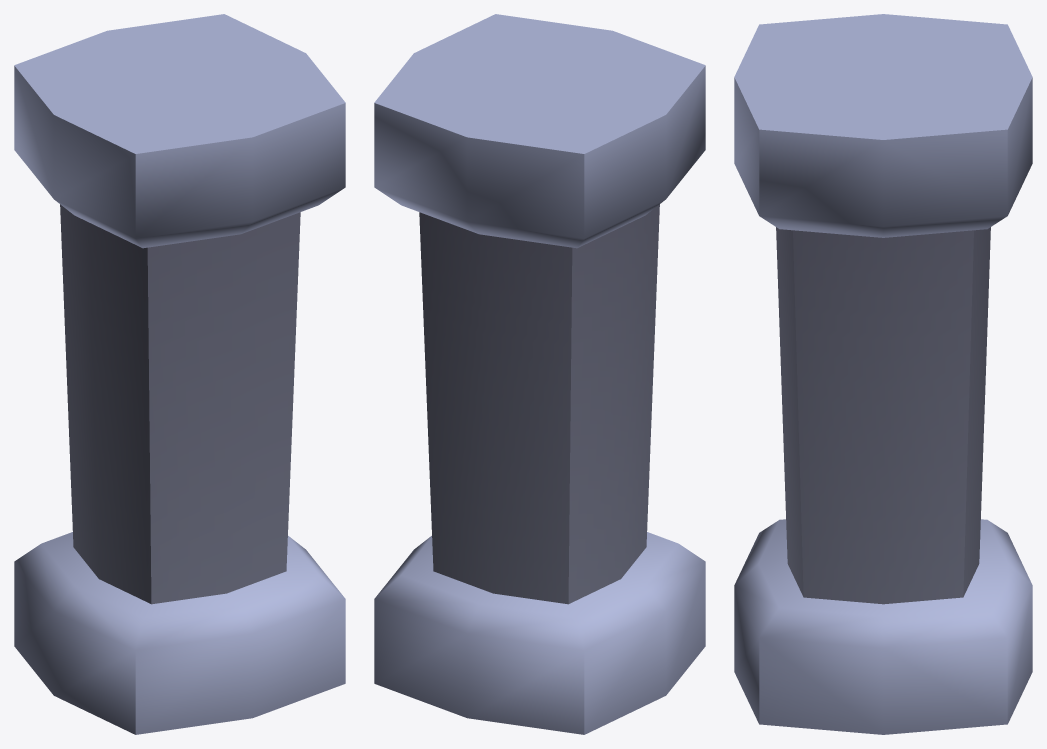
File: column.obj
3 views of the same model, side by side, from view 1: azimuth 30°, elevation 25°; view 2: azimuth 150°, elevation 25°; view 3: azimuth 270°, elevation 25° (orthographic). The views are drawn at different scales.
Parts seen in each view (by area): view 1: column; view 2: column; view 3: column.
Boxes of the visible parts, x1=… form: column: x1=14, y1=14, x2=345, y2=734; column: x1=374, y1=14, x2=705, y2=734; column: x1=734, y1=14, x2=1032, y2=734.
Bounding box in the file's own units: 0.5 × 1.1 × 0.5.
Materials: 1 (1 with a texture image).
